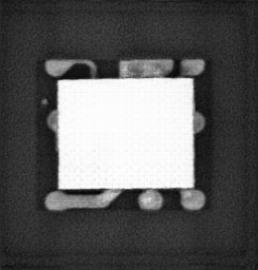DIE_INK: (39, 96, 49, 105)
